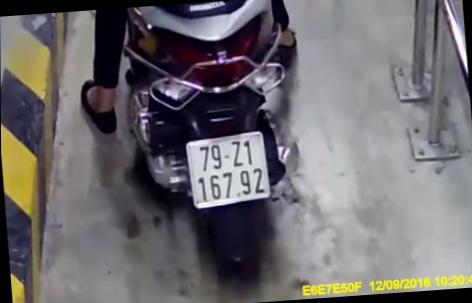LP: (184, 128, 271, 209)
